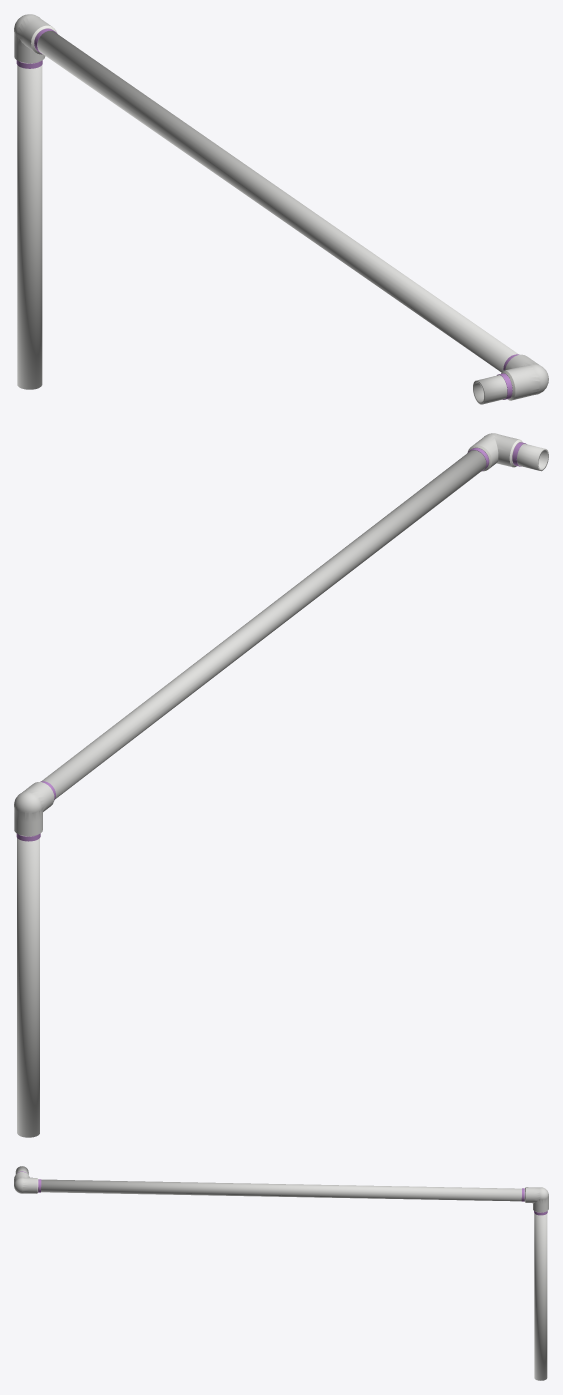
File: slab_pipes_dwv__water_heater-garage_gas_tank.glb
3 views of the same model, one above another, from view 1: azimuth 30°, elevation 25°; view 2: azimuth 150°, elevation 25°; view 3: azimuth 270°, elevation 25° (orthographic). The views are drawn at different scales.
Visible parts, largest first — view 1: pipe_dwv_pan_drain_wh_garage_tank; view 2: pipe_dwv_pan_drain_wh_garage_tank; view 3: pipe_dwv_pan_drain_wh_garage_tank.
Part boxes in pixels (x1,y1,x2,y2): pipe_dwv_pan_drain_wh_garage_tank: [14, 14, 548, 404]; pipe_dwv_pan_drain_wh_garage_tank: [14, 433, 548, 1137]; pipe_dwv_pan_drain_wh_garage_tank: [14, 1166, 548, 1380].
Size of the model in its own units: 0.0839 by 0.4589 by 1.11.
